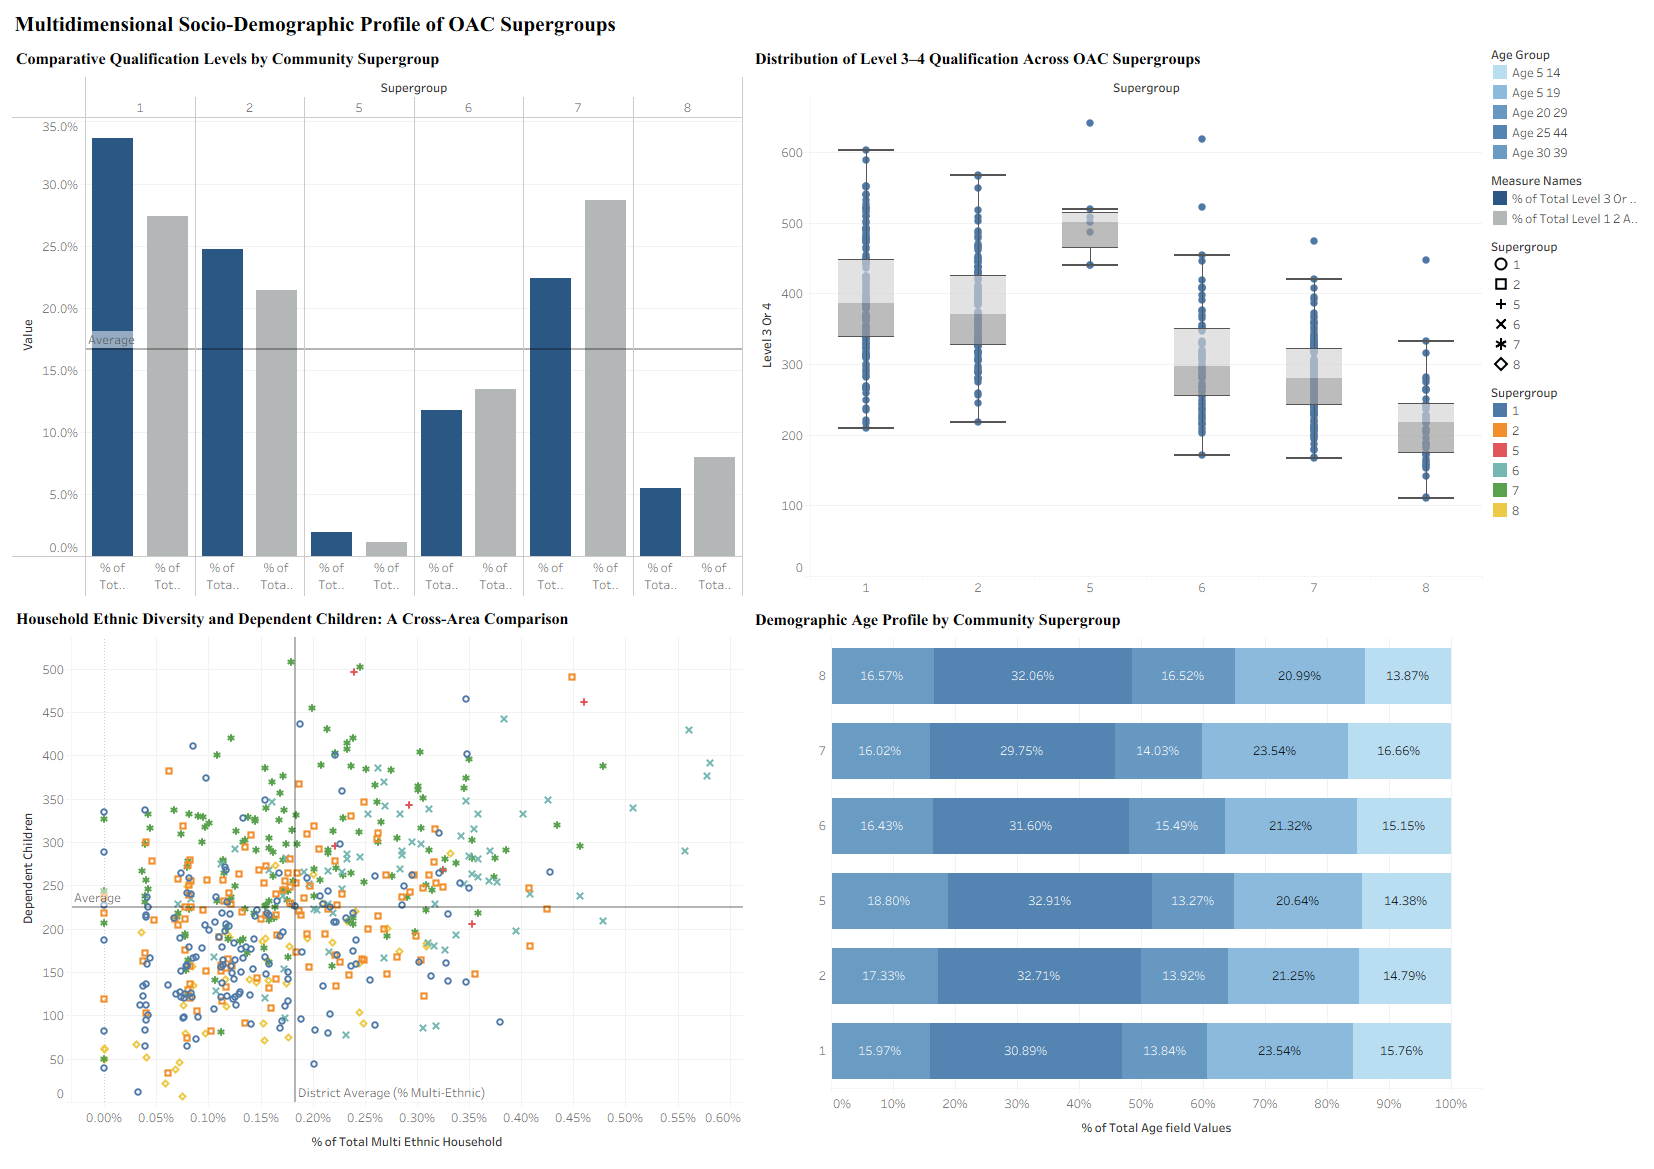

Layout of this report page (visuals, bound fields, positions):
{"tool":"tableau","page":{"name":"Dashboard 1","canvas":[1654,1169],"ordinal":0},"visuals":[{"type":"title","box":[8,8,1638,32]},{"type":"worksheet","title":"02_Qualification","mark":"Automatic","cols":["supergroup"],"box":[8,40,739,560.5]},{"type":"worksheet","title":"03_Housing_Boxplot","mark":"Circle","rows":["level_3_or_4"],"cols":["supergroup"],"box":[747,40,739,560.5]},{"type":"legend","title":"01_Age_Distribution_OAC","param":"[federated.17bo8wk1mdb6u61c9ggxo11e0hdg].[none:Pivot Field Names:nk]","box":[1486,40,160,126]},{"type":"legend","title":"02_Qualification","param":"[federated.17bo8wk1mdb6u61c9ggxo11e0hdg].[:Measure Names]","box":[1486,166,160,66]},{"type":"legend","title":"04_Household_Structure_Scatter","param":"[federated.17bo8wk1mdb6u61c9ggxo11e0hdg].[none:supergroup:ok]","box":[1486,232,160,146]},{"type":"legend","title":"04_Household_Structure_Scatter","param":"[federated.17bo8wk1mdb6u61c9ggxo11e0hdg].[none:supergroup:ok]","box":[1486,378,160,146]},{"type":"worksheet","title":"04_Household_Structure_Scatter","mark":"Automatic","rows":["dependent_children"],"cols":["multi_ethnic_household"],"box":[8,600.5,739,560.5]},{"type":"worksheet","title":"01_Age_Distribution_OAC","mark":"Bar","rows":["supergroup"],"box":[747,600.5,739,560.5]}]}

Visuals, with their boxes in screenshot pixels (x1, y1, x2, y2), scaled from the page's 1654x1169 canvas onto the 1654x1169 screenshot:
title: 8:8:1646:40
"02_Qualification" worksheet: 8:40:747:600
"03_Housing_Boxplot" worksheet (Circle marks): 747:40:1486:600
"01_Age_Distribution_OAC" legend: 1486:40:1646:166
"02_Qualification" legend: 1486:166:1646:232
"04_Household_Structure_Scatter" legend: 1486:232:1646:378
"04_Household_Structure_Scatter" legend: 1486:378:1646:524
"04_Household_Structure_Scatter" worksheet: 8:600:747:1161
"01_Age_Distribution_OAC" worksheet (Bar marks): 747:600:1486:1161
